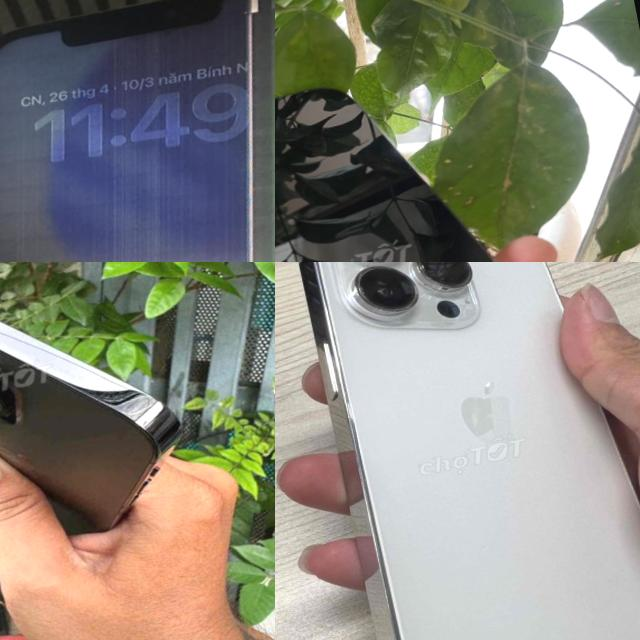screen_defect: (224, 110, 270, 172), (225, 170, 268, 231), (232, 60, 266, 109), (238, 15, 266, 60), (228, 232, 263, 262), (238, 0, 265, 18)
